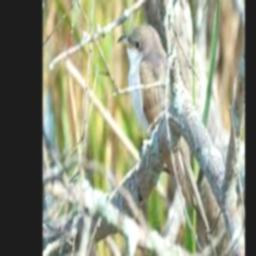Cuckoo: (117, 25, 205, 216)
